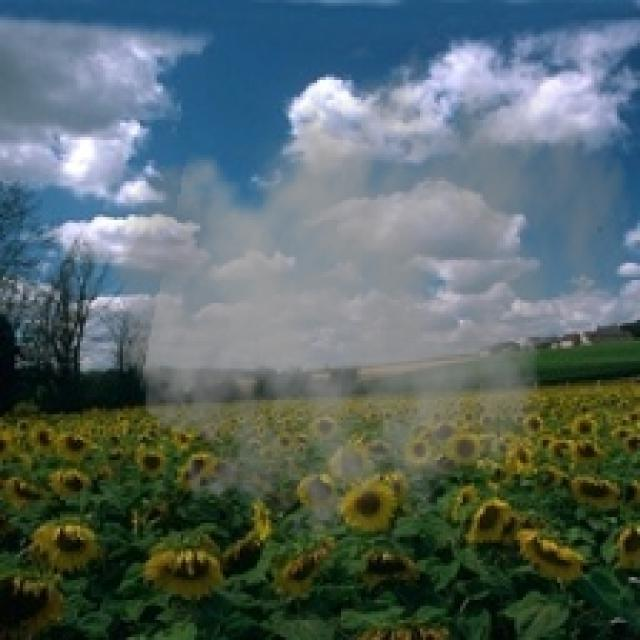Smoke: (102, 23, 634, 560)
